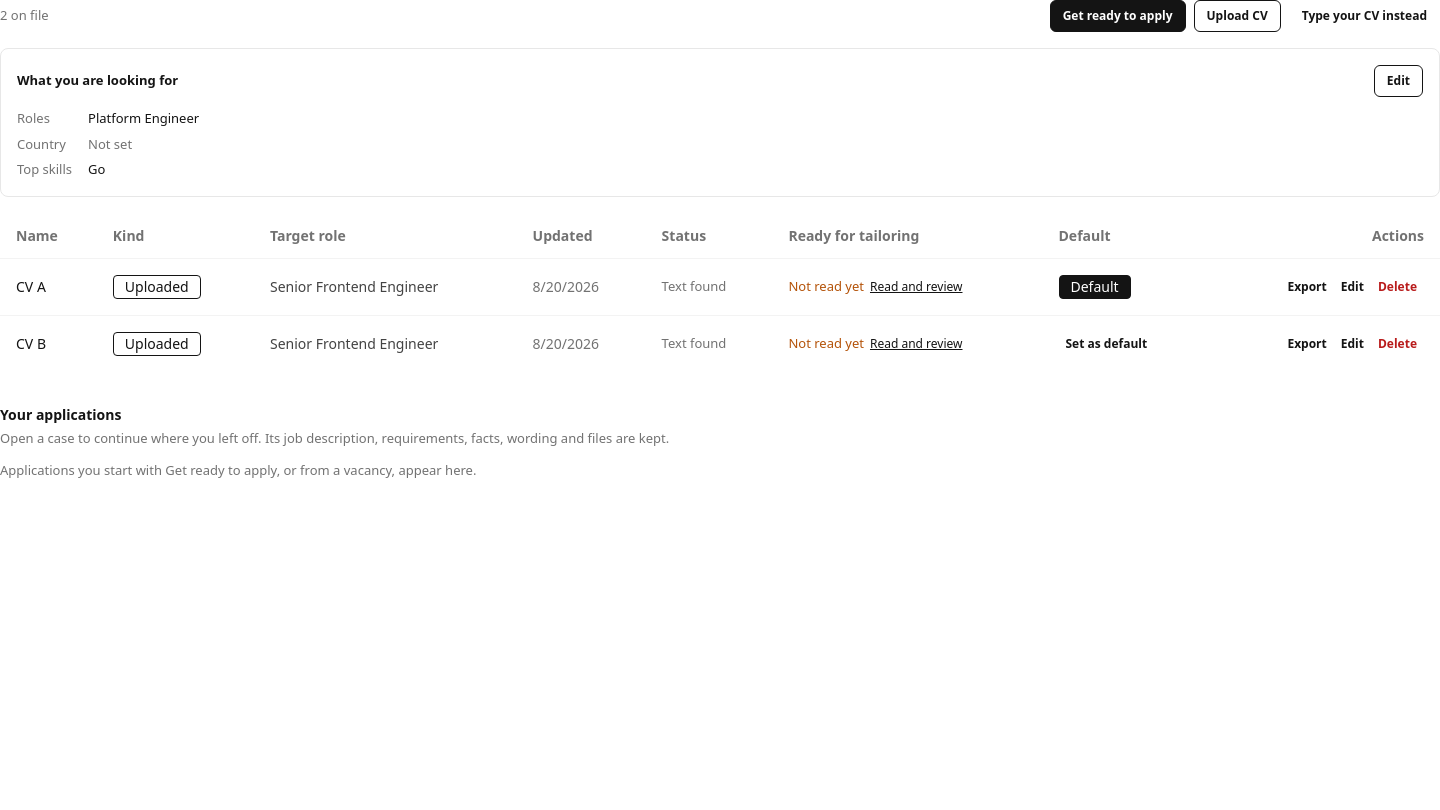
Test: CvLibraryPage › promotes another CV to default after deleting the current default, reflecting the backend promotion
Expected: the button "CV A" is shown, [16,276,46,297]
Step 1. Click the button "Delete" → coordinates (1398, 286), box [1371,270,1424,302]
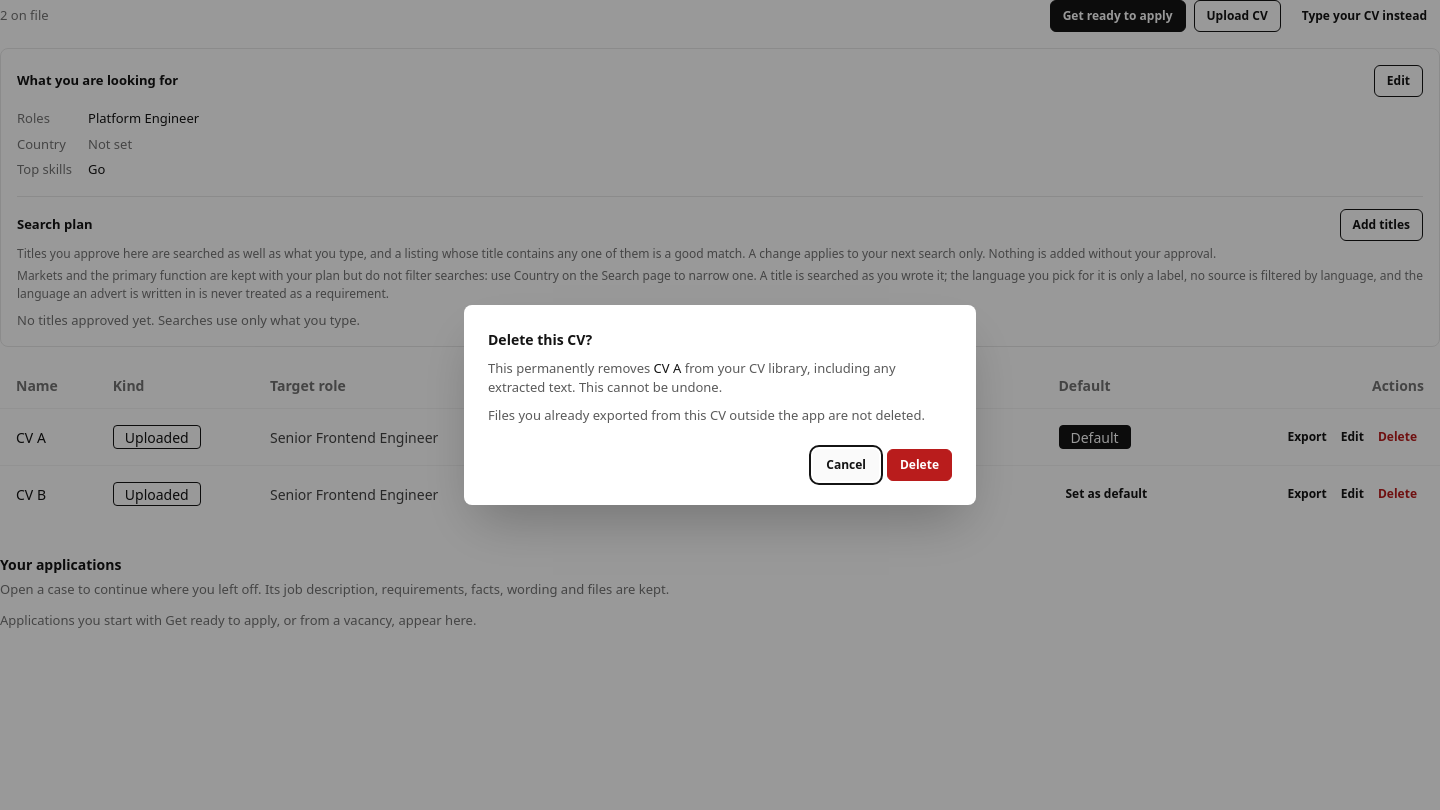
Step 2. Click the button "Delete" → coordinates (920, 465), box [887,449,952,481]
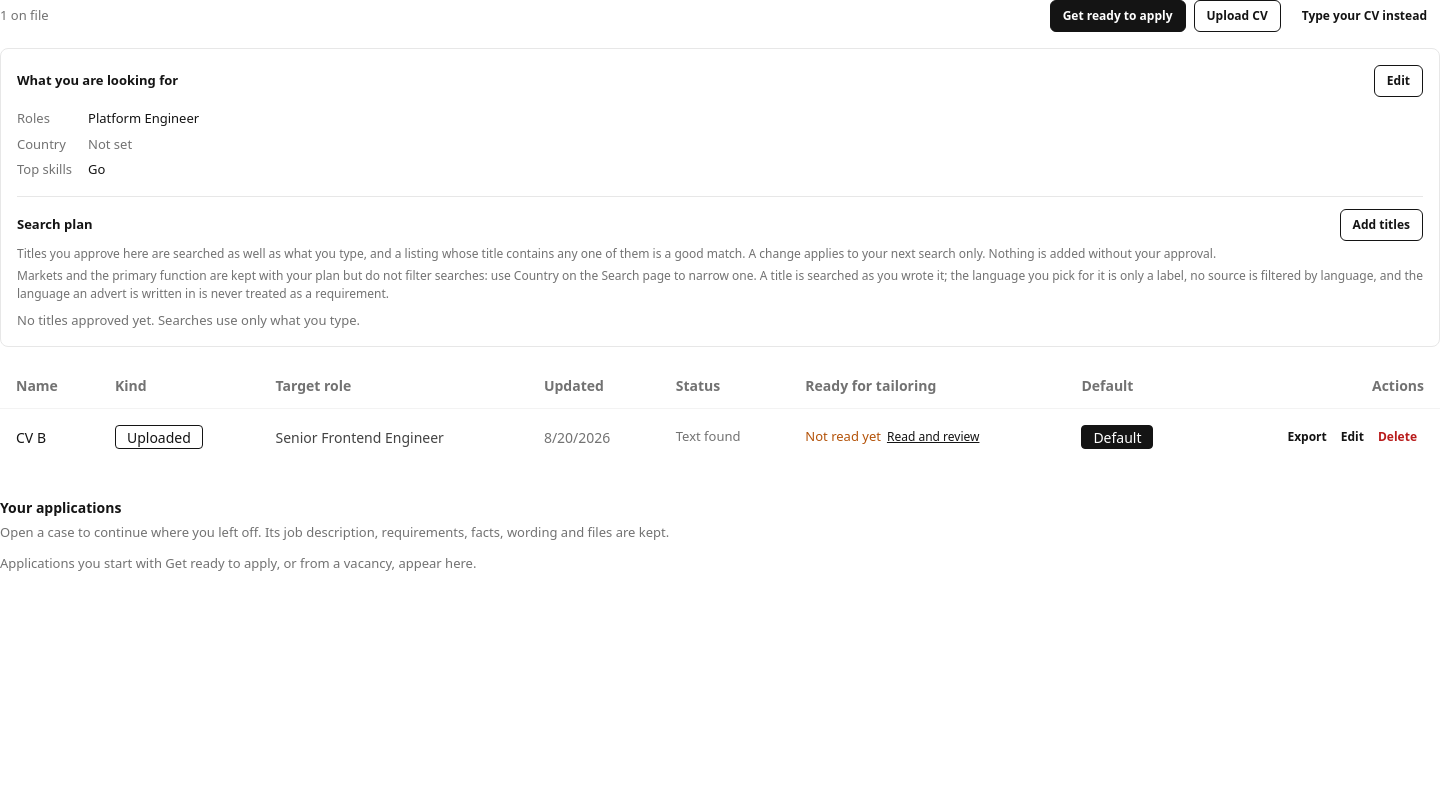
Expected: the button "CV B" is shown, [16,426,46,448]
Now the button "CV A" is gone
